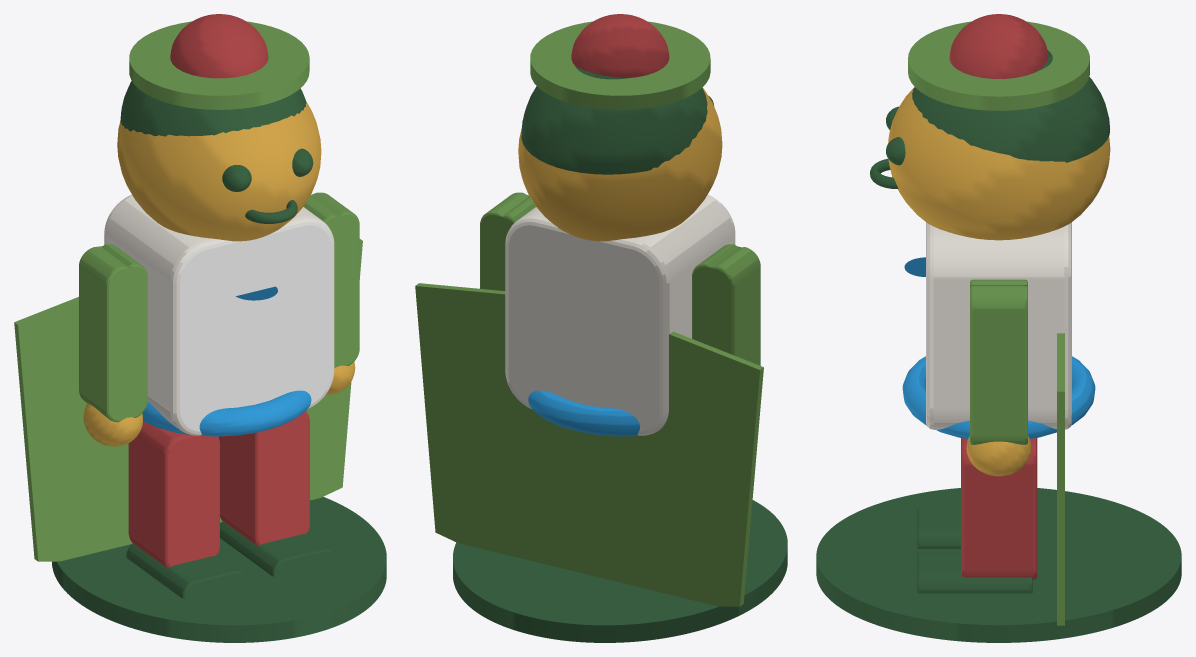
File: 1094_古文观止_王安石.glb
The picture shows the model from 3 angles, left to right: view 1: azimuth 30°, elevation 25°; view 2: azimuth 150°, elevation 25°; view 3: azimuth 270°, elevation 25°; orthographic projection.
Visible parts, largest first — view 1: card_1094; view 2: card_1094; view 3: card_1094.
Part boxes in pixels (x1,y1,x2,y2): card_1094: [14, 14, 386, 642]; card_1094: [415, 14, 787, 642]; card_1094: [816, 14, 1181, 642].
Size of the model in its own units: 0.6432 by 1 by 0.5844.
